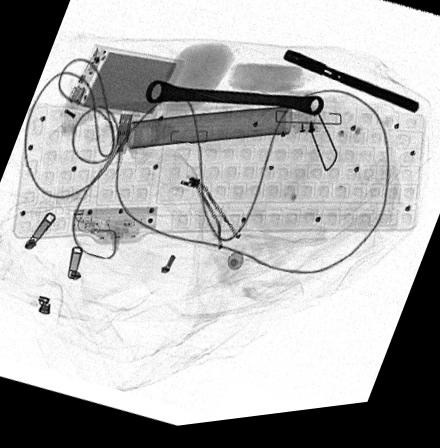Pliers: (281, 58, 421, 124)
Powerbank: (64, 45, 183, 122)
Wrench: (144, 86, 323, 124)
